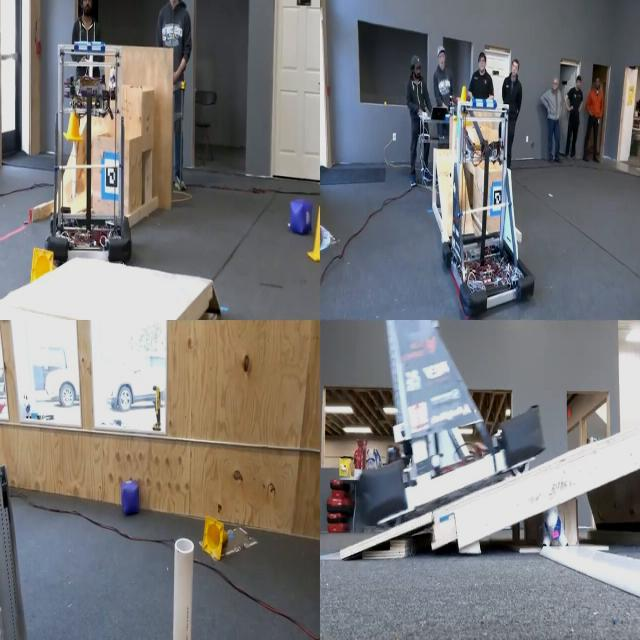frc_cone: (26, 243, 56, 286), (309, 199, 327, 270), (199, 516, 226, 558), (63, 96, 84, 144), (456, 86, 468, 125)
frc_cube: (114, 479, 142, 519), (287, 202, 304, 236)
